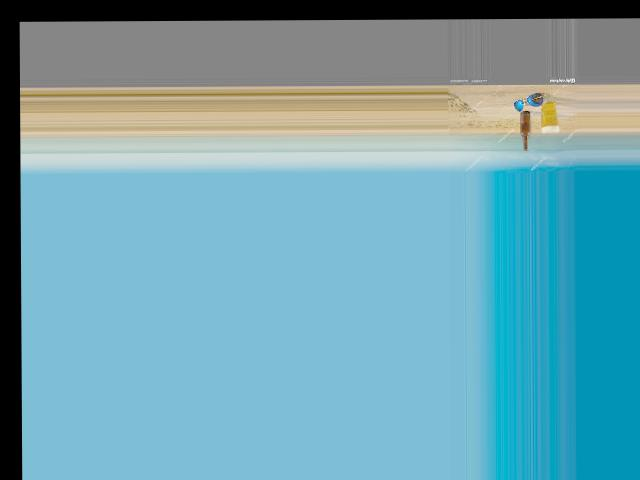beer: (519, 111, 530, 151)
